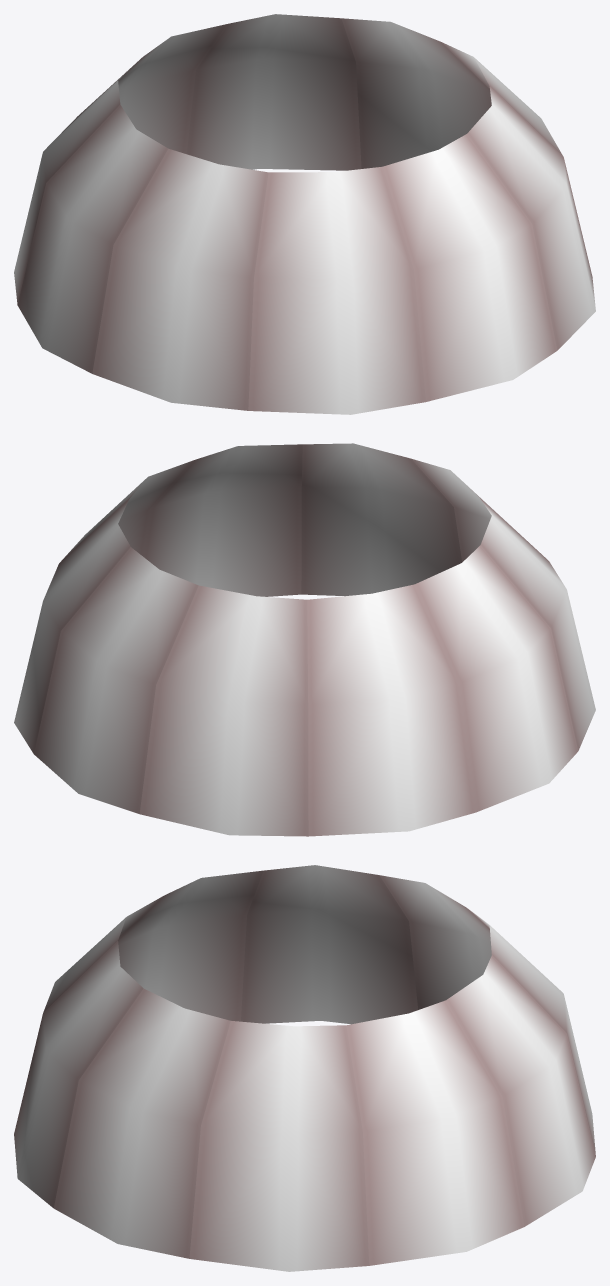
The model's file is MSH_Fusion_reactor_room_L1_R3_anim_b.fbx.
3 renders of one model, top to bottom at view 1: azimuth 30°, elevation 25°; view 2: azimuth 150°, elevation 25°; view 3: azimuth 270°, elevation 25°, orthographic. The views are drawn at different scales.
Visible parts, largest first — view 1: MSH_Fusion_reactor_room_L1_R3_anim_b 1; view 2: MSH_Fusion_reactor_room_L1_R3_anim_b 1; view 3: MSH_Fusion_reactor_room_L1_R3_anim_b 1.
Part boxes in pixels (box(x1,y1,x2,y2)): MSH_Fusion_reactor_room_L1_R3_anim_b 1: box(14, 14, 595, 414); MSH_Fusion_reactor_room_L1_R3_anim_b 1: box(14, 443, 595, 836); MSH_Fusion_reactor_room_L1_R3_anim_b 1: box(14, 865, 595, 1271).
Bounding box in the file's own units: 2.15 × 0.8017 × 2.11.
